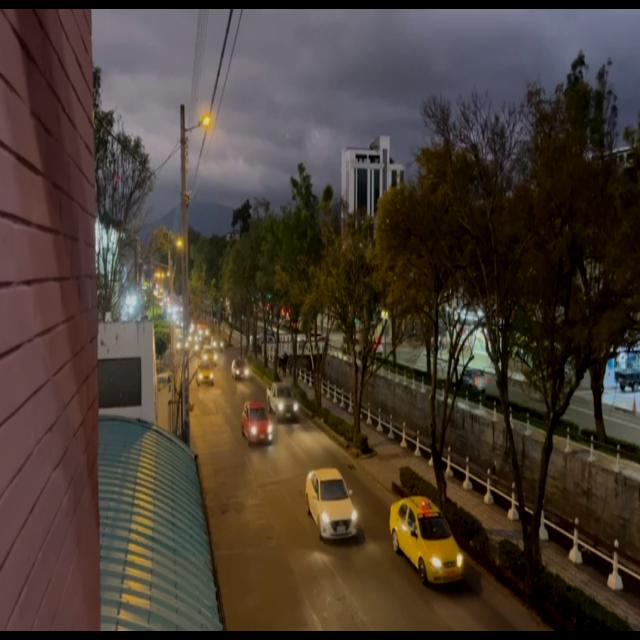CMT: (267, 382, 301, 419)
SED: (388, 499, 466, 588), (306, 465, 358, 541), (242, 400, 273, 446)
